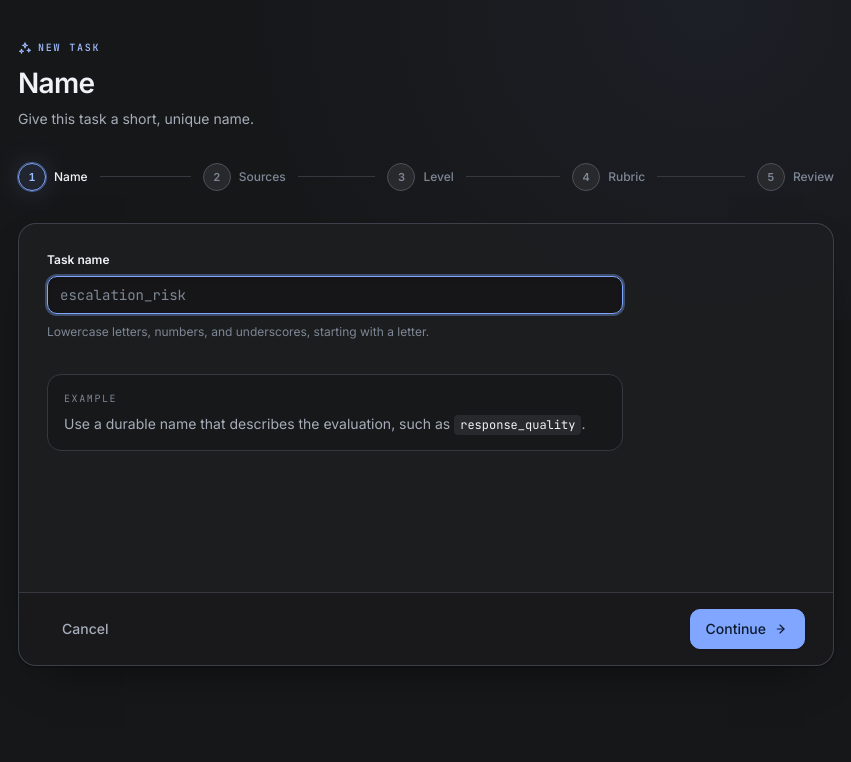
Test case: NewTask › blocks Continue until the name is valid
Step 1. Type "Not Valid!" into the field with placeholder "escalation_risk" → (335, 294), box 47,276 -> 623,314
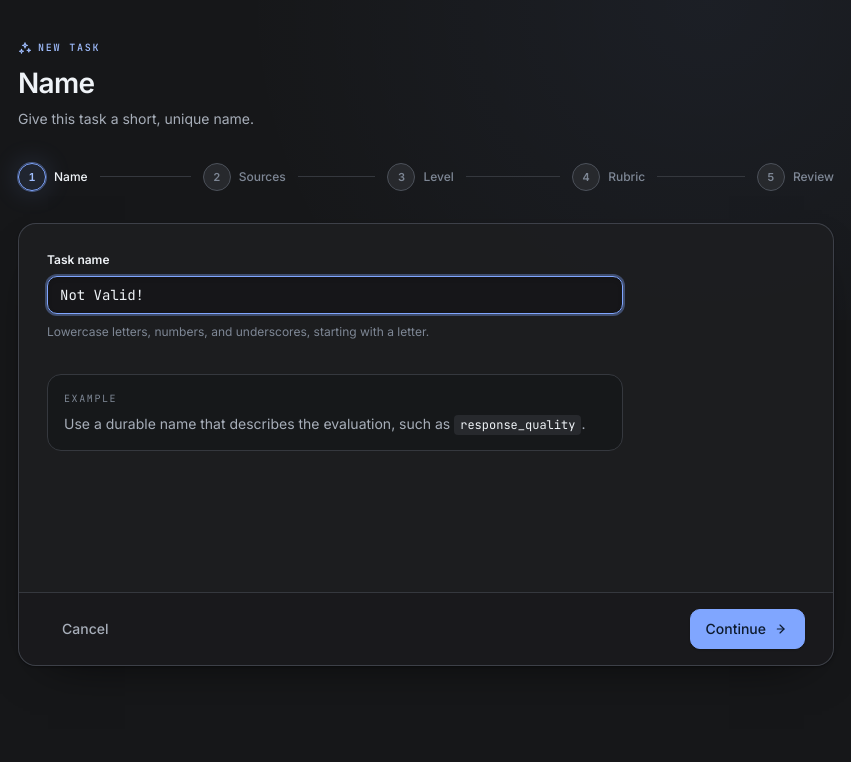
Step 2. Click the button "Continue" → (748, 628), box 690,608 -> 805,648
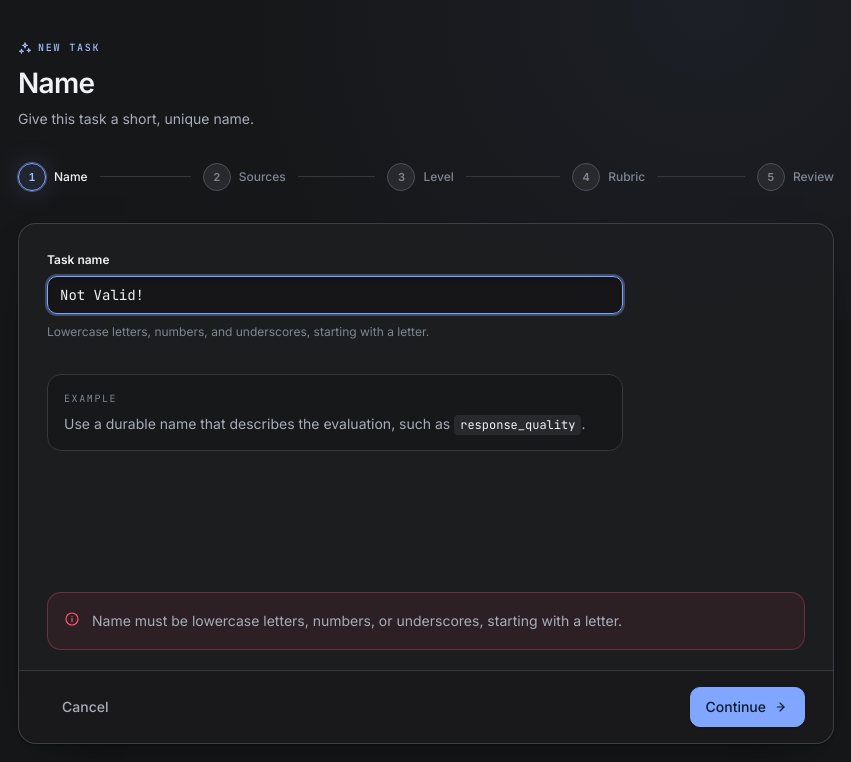
Result: the text "Name must be lowercase letters, numbers, or underscores, starting with a letter." is shown at 92,608 -> 622,632
